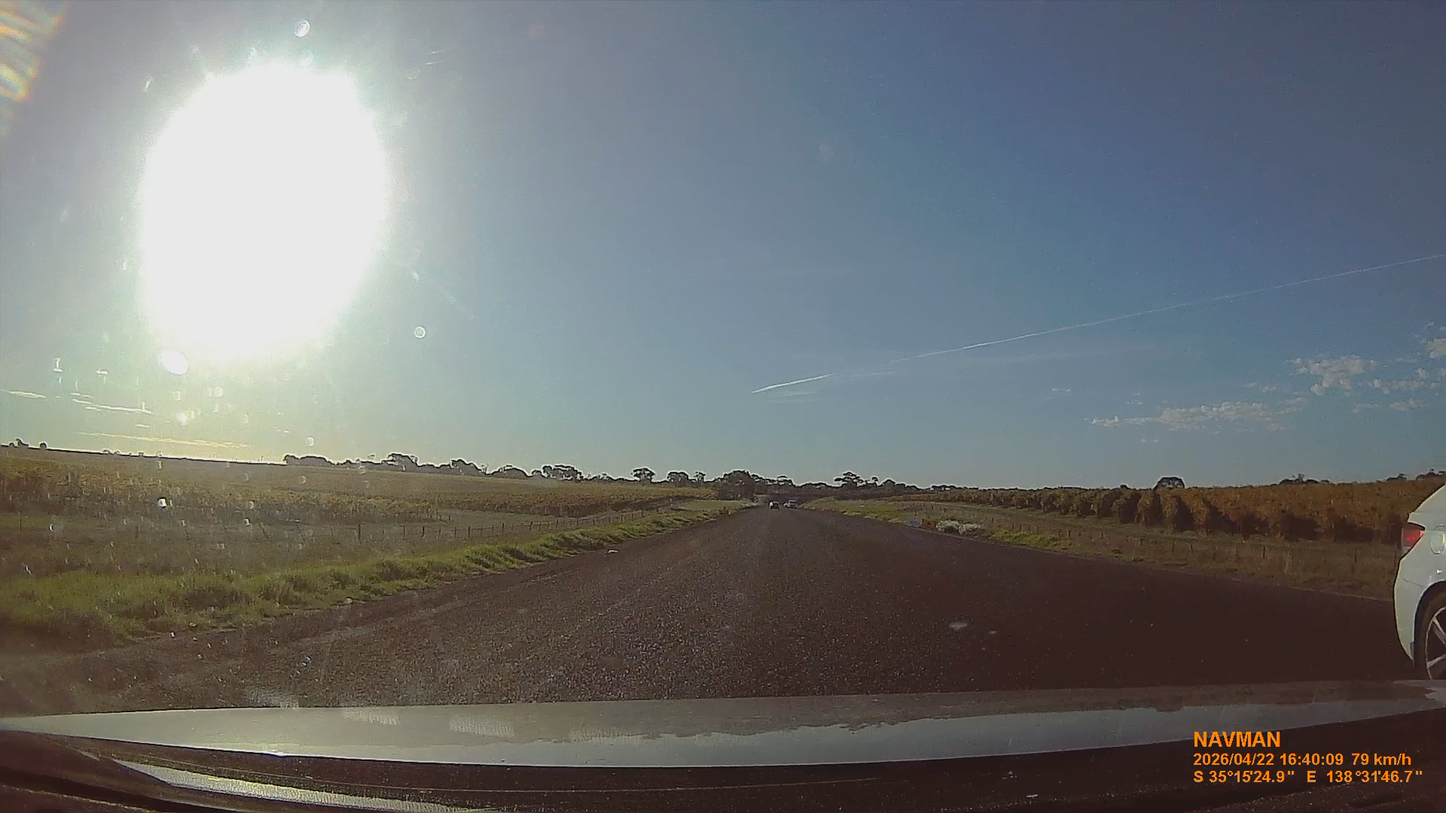fences: (1063, 525, 1394, 595), (954, 508, 1121, 556)
